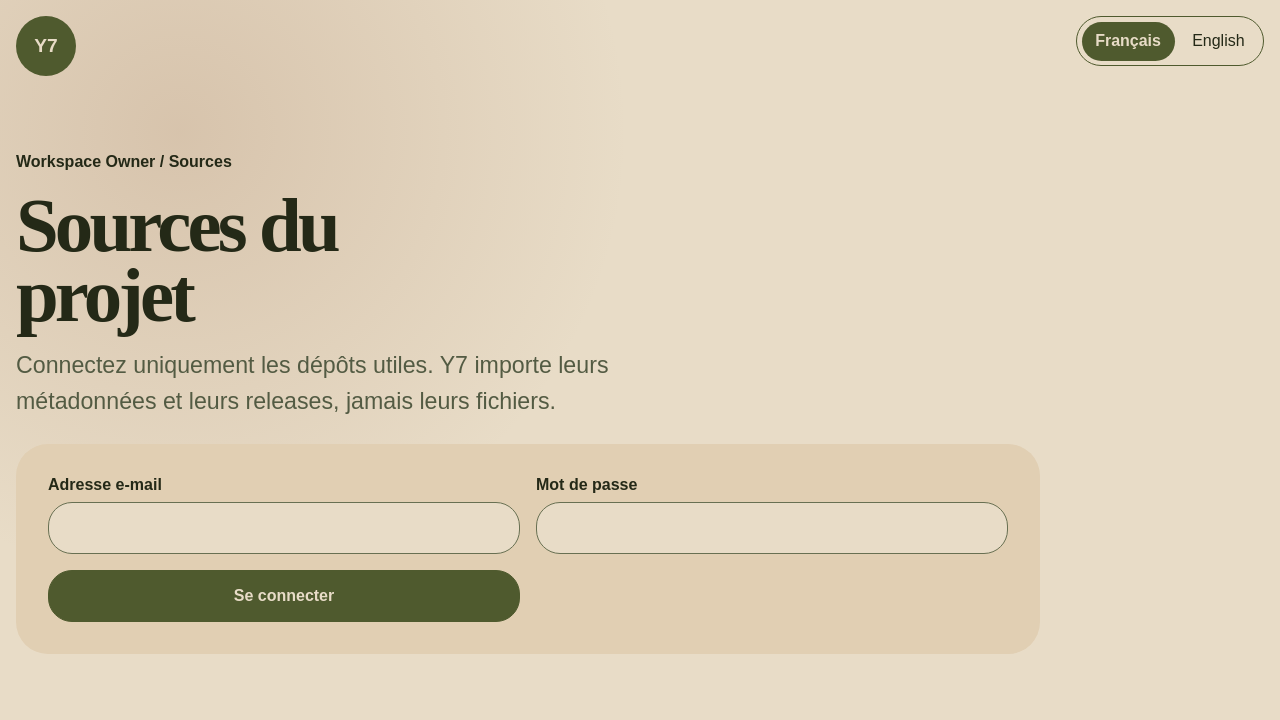
Test: source management page › renders disconnected health, empty releases and clears state on sign-out
The width and height of the screenshot is (1280, 720).
Type "owner@example.test" into the field labelled "Adresse e-mail" at (284, 528), box [48,502,520,554]
Type "secret" into the password field labelled "Mot de passe" at (772, 528), box [536,502,1008,554]
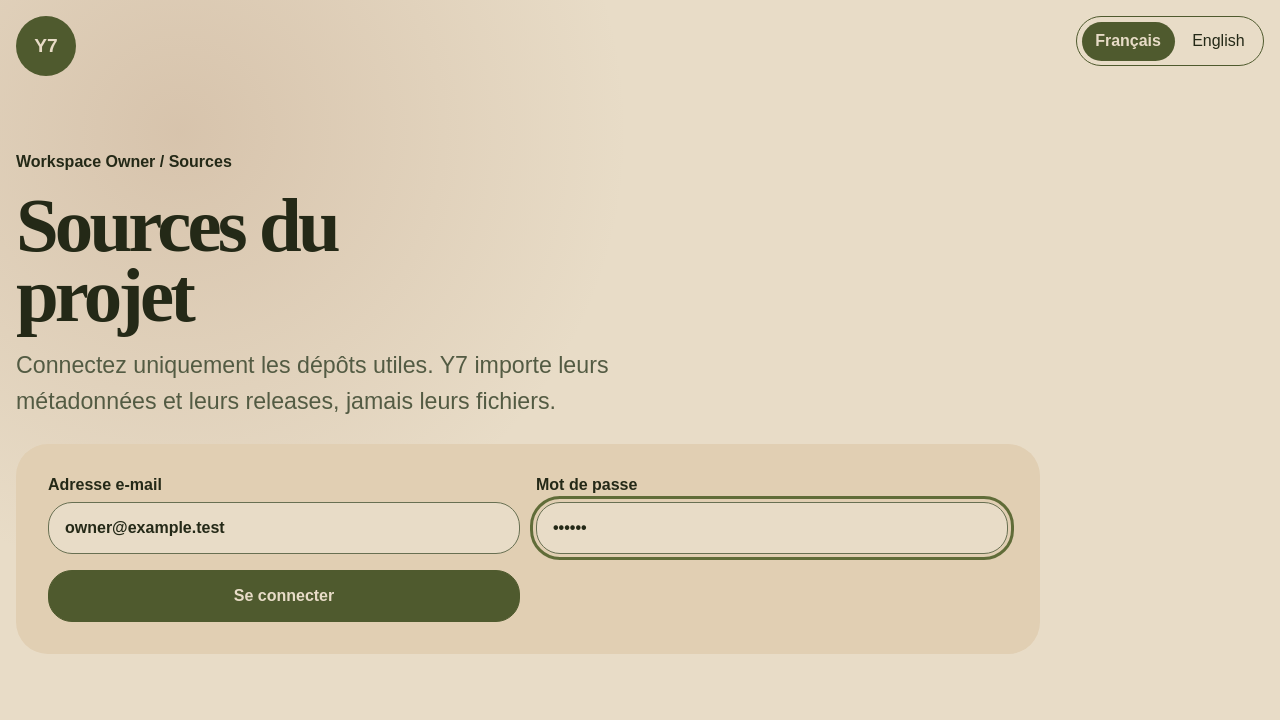
Click the button "Se connecter" at (284, 596), box [48,570,520,622]
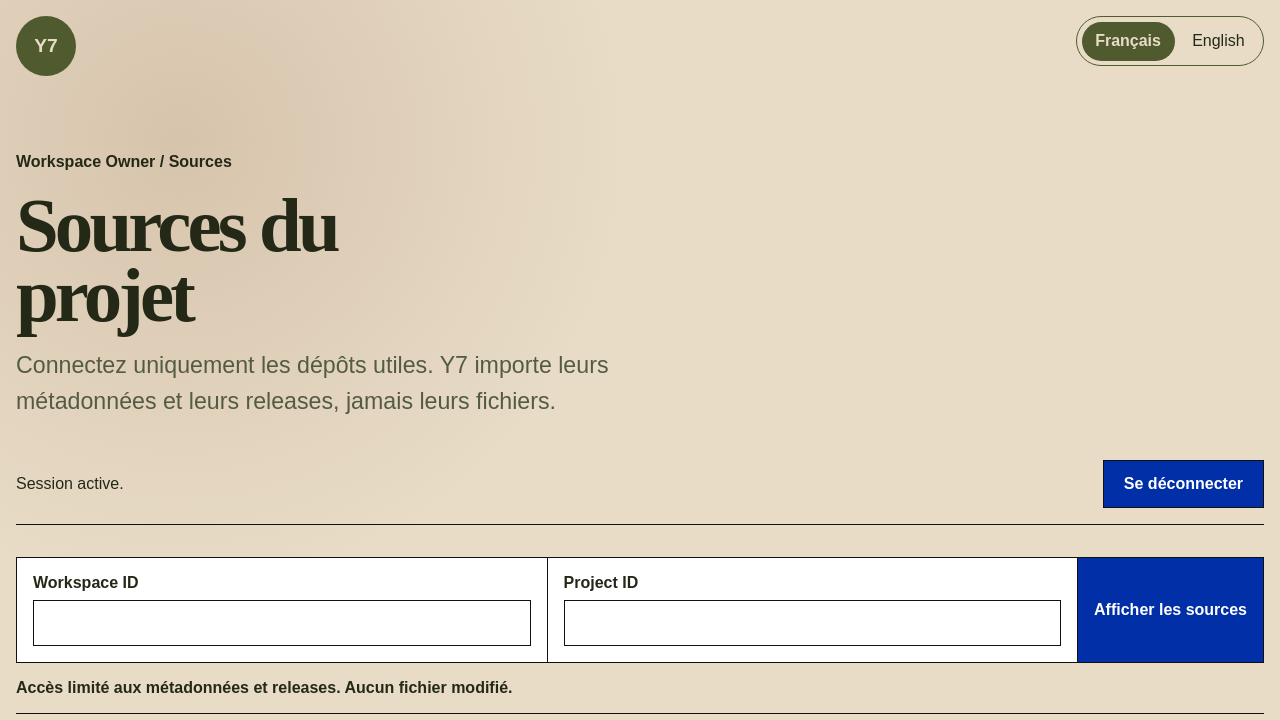
Type "workspace_1" into the field labelled "Workspace ID" at (282, 623), box [33,600,530,646]
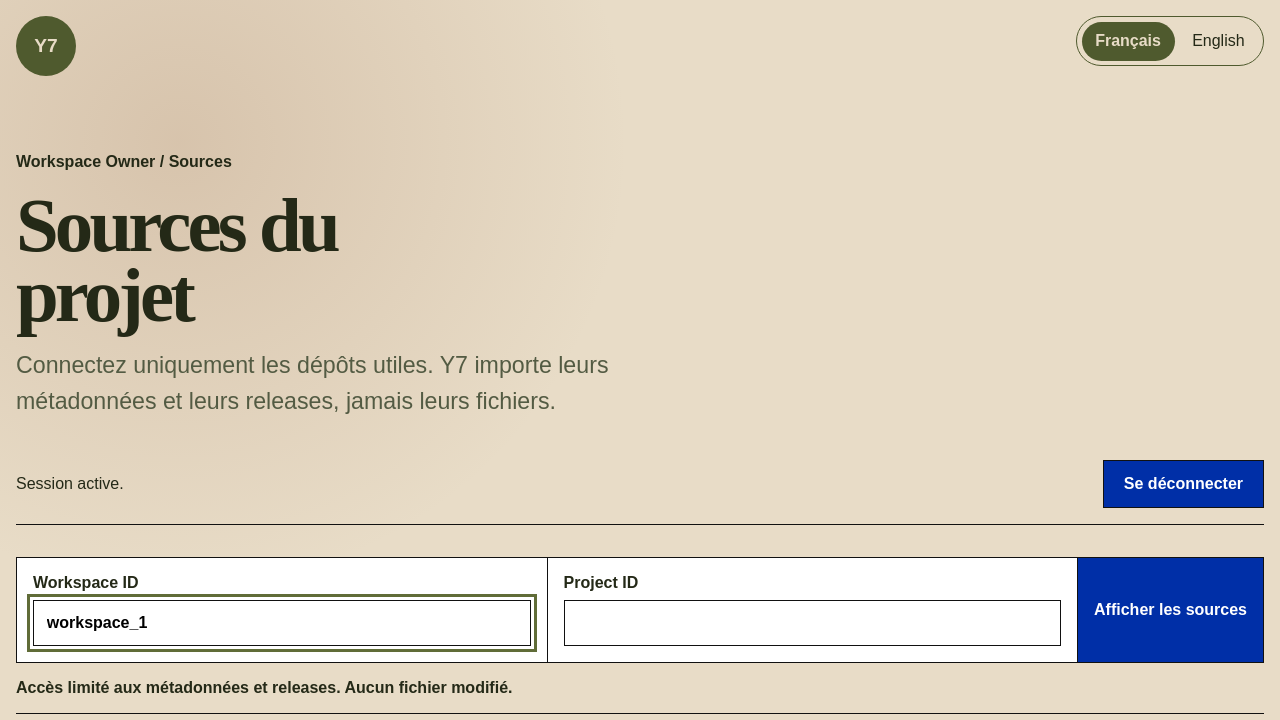
Type "project_1" into the field labelled "Project ID" at (812, 623), box [564,600,1061,646]
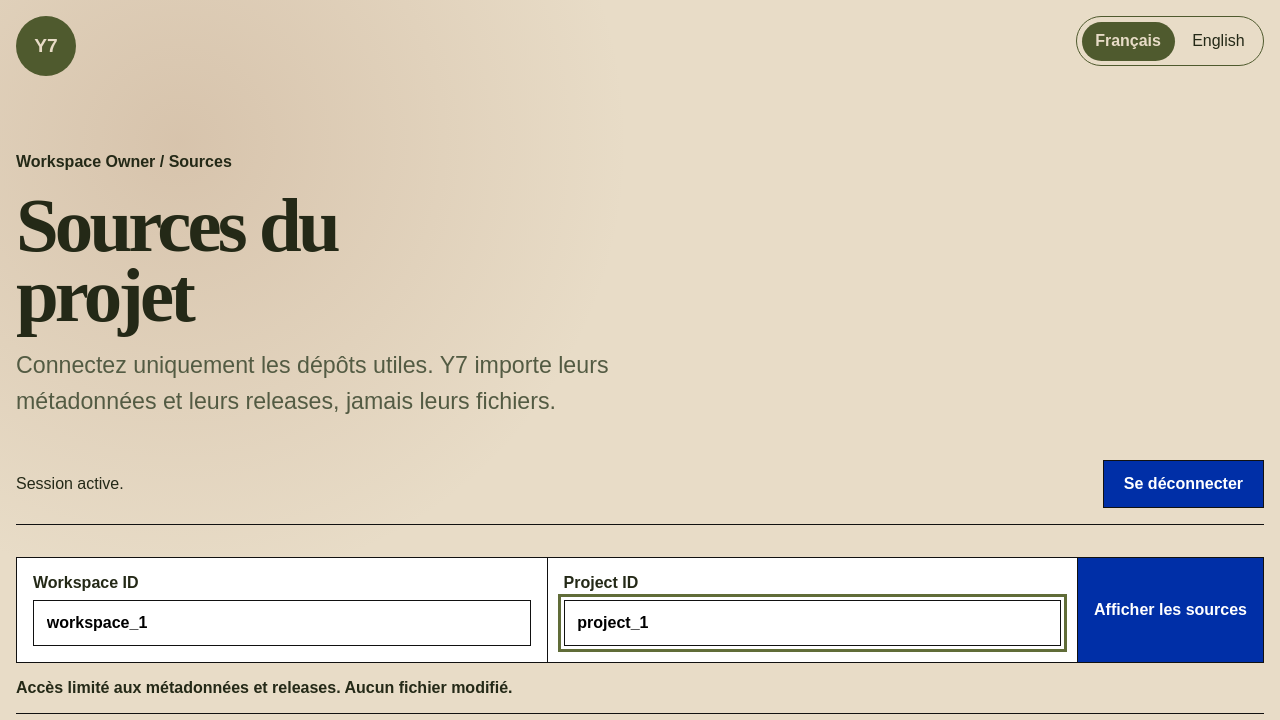
Click the button "Afficher les sources" at (1170, 610), box [1078,558,1263,662]
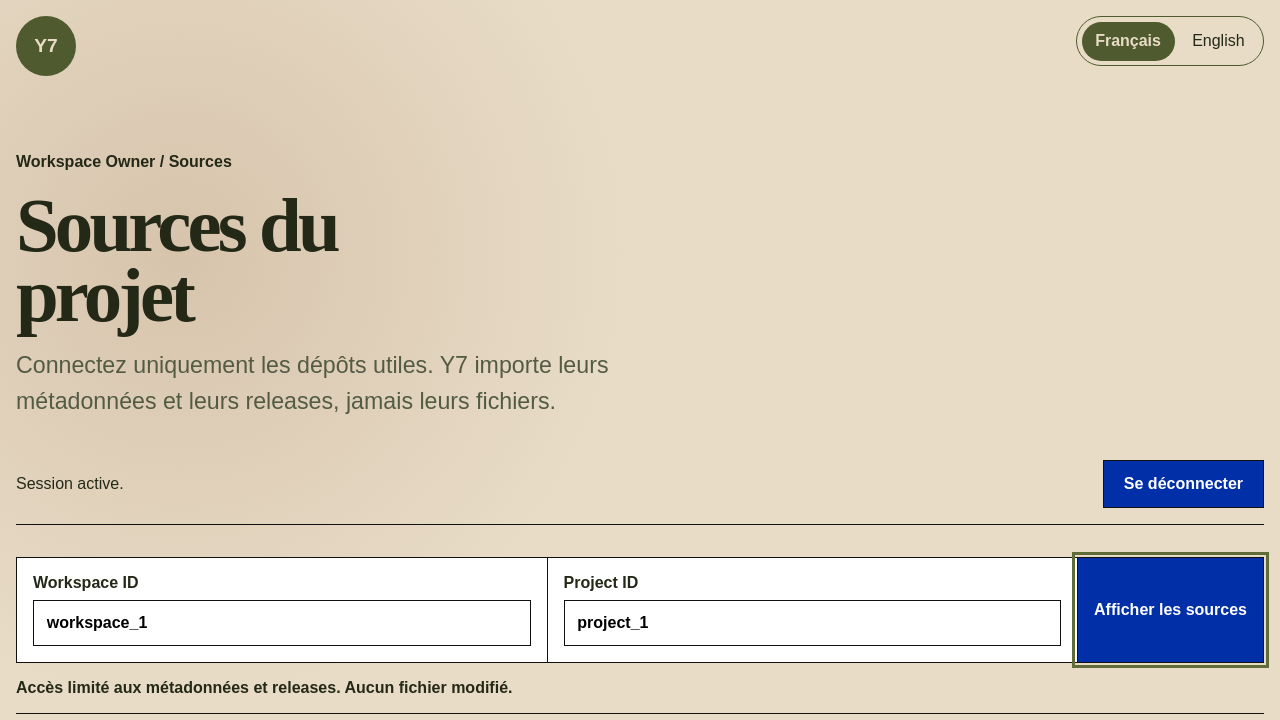
Click the button "Se déconnecter" at (1183, 484), box [1103,460,1264,508]
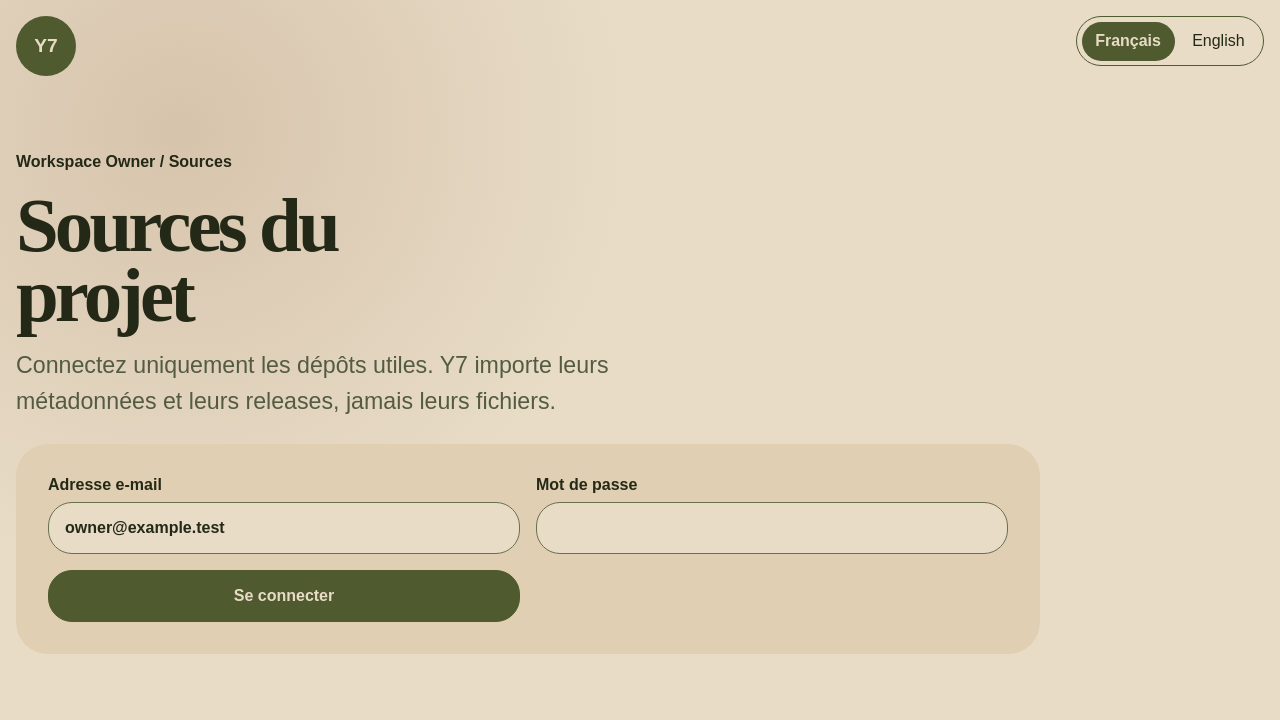
Now the button "Se connecter" is shown, box [48,570,520,622]
